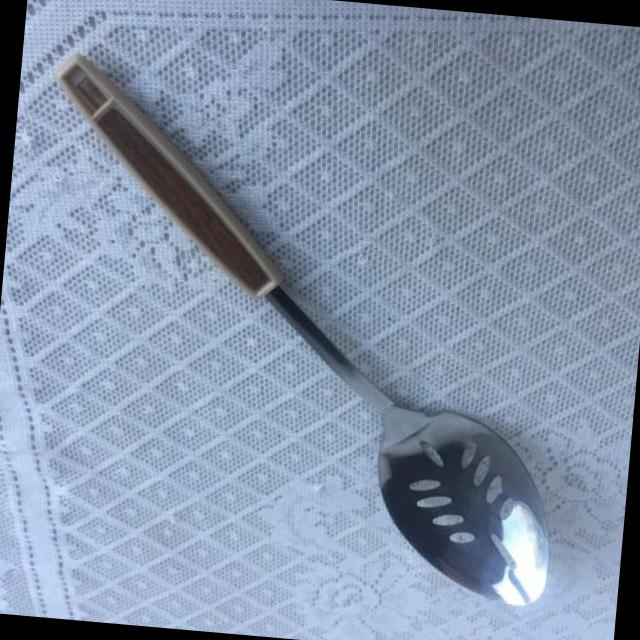spoon: (16, 46, 596, 616)
